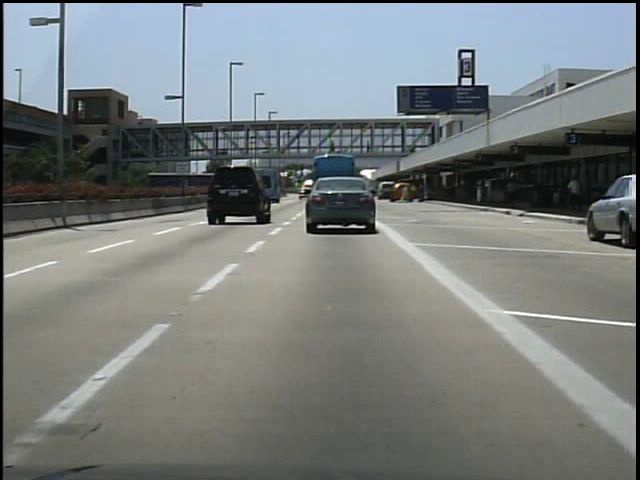person: (564, 171, 583, 213), (502, 175, 520, 213), (413, 179, 430, 205), (400, 179, 416, 206), (363, 138, 376, 160), (327, 135, 340, 155)
